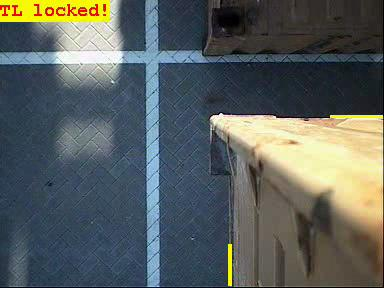groundmarker_2: (94, 104, 191, 187)
